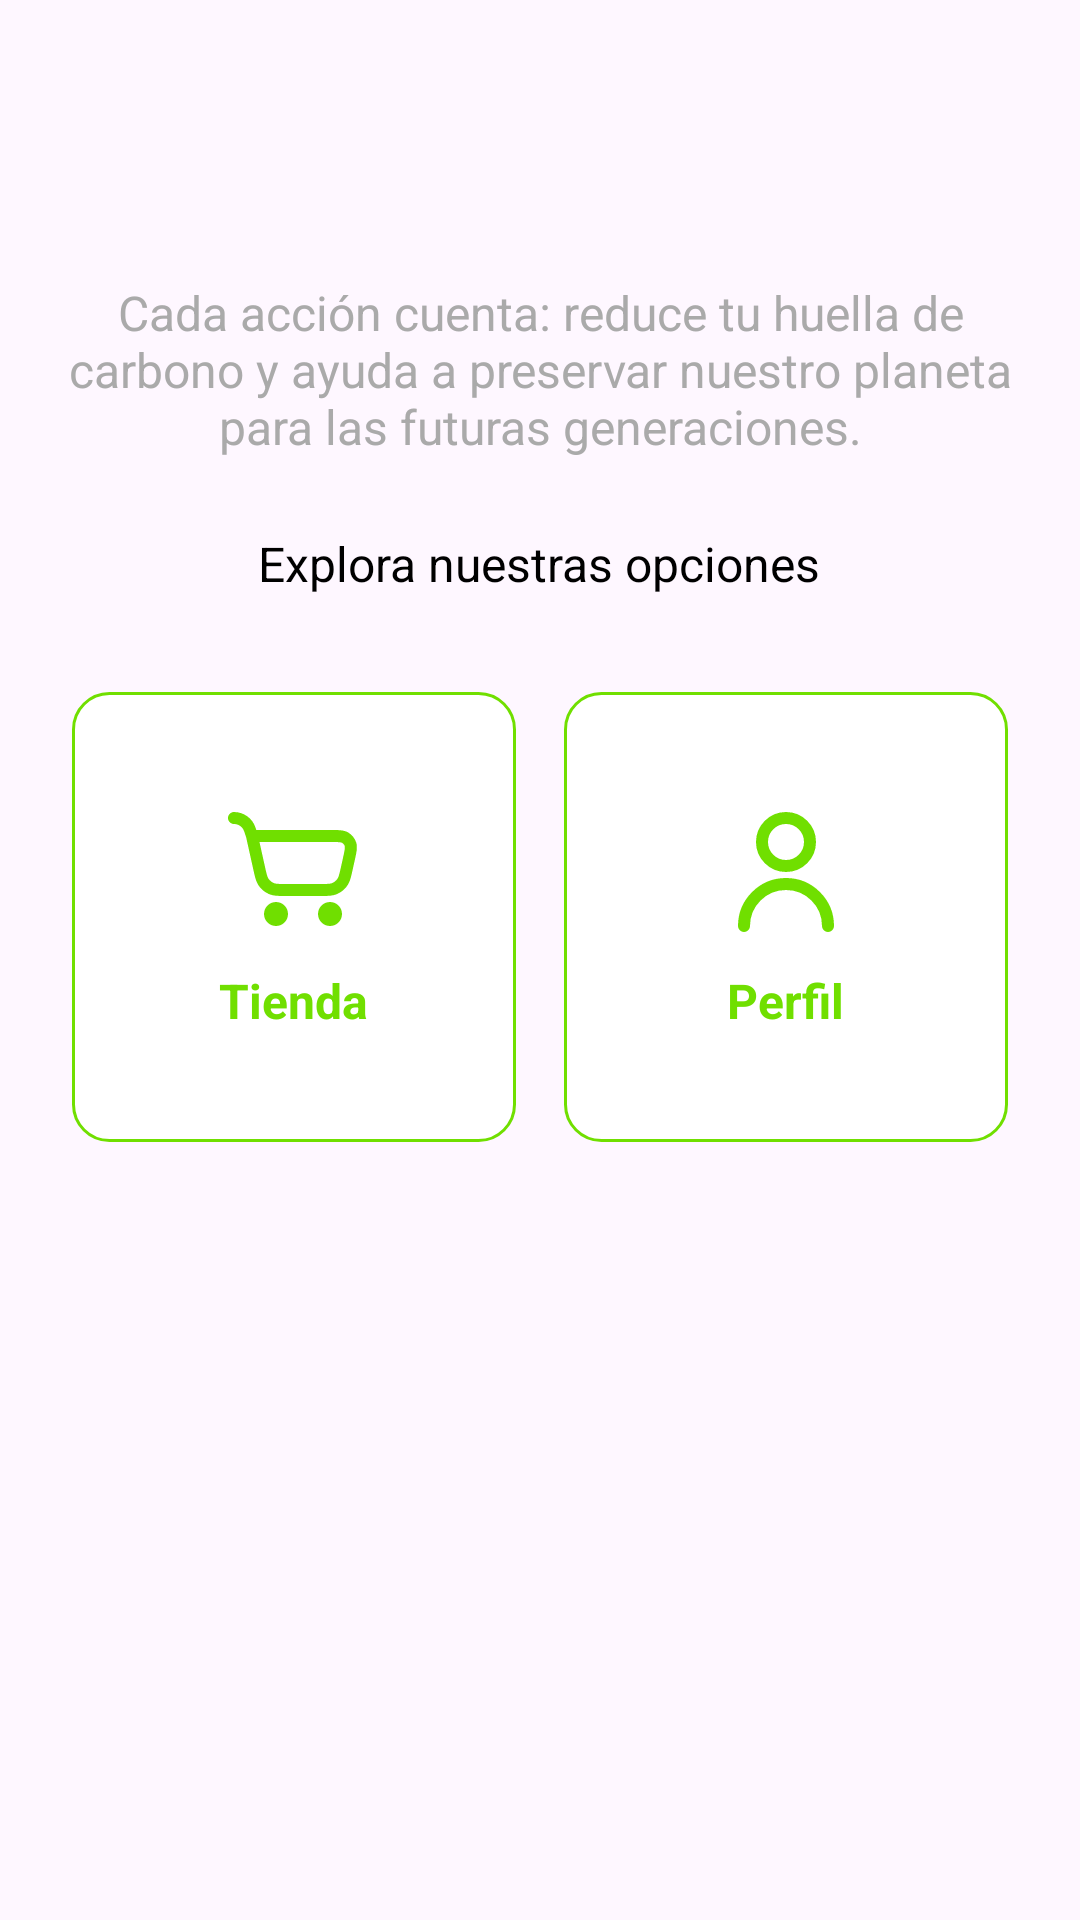

Where to tap for icons on this 1080*1920 app screen, as point (x, y):
shopping cart: point (292, 869)
user: point (786, 872)
